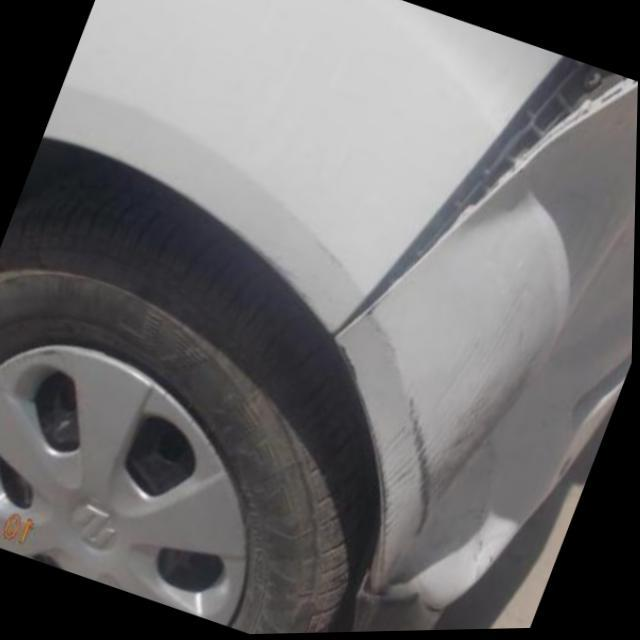dent: (388, 347, 571, 605)
dislocated part: (340, 59, 638, 333)
scratch: (403, 391, 436, 505)
